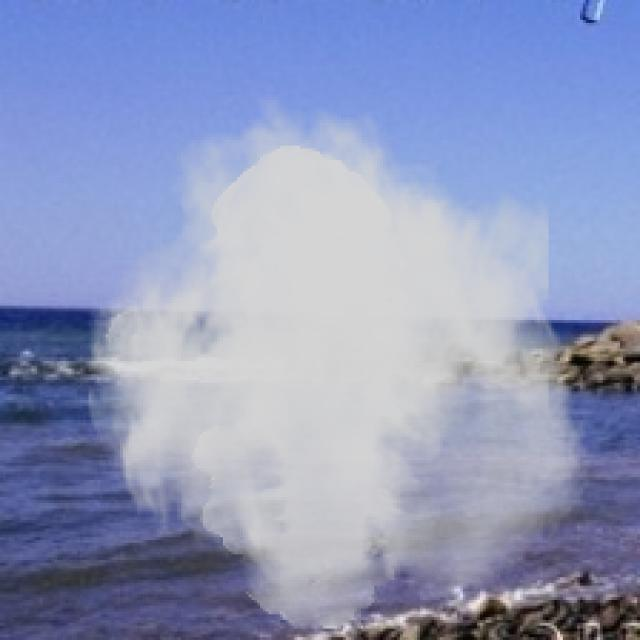smoke: (80, 91, 594, 632)
